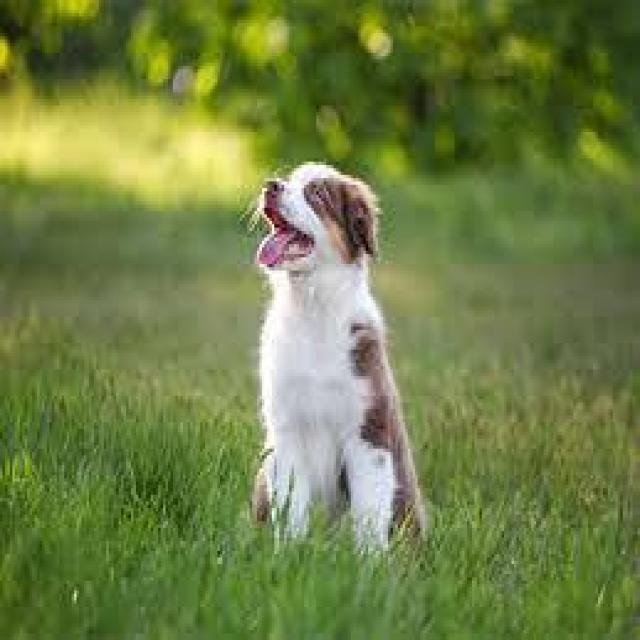Dog: (246, 152, 386, 294)
